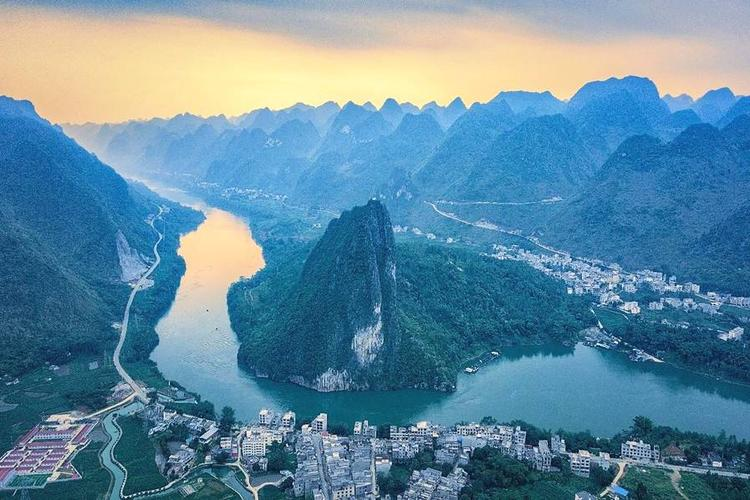mountain: (227, 174, 672, 399), (0, 128, 206, 377), (399, 95, 713, 258), (121, 110, 504, 228), (540, 116, 735, 285)
